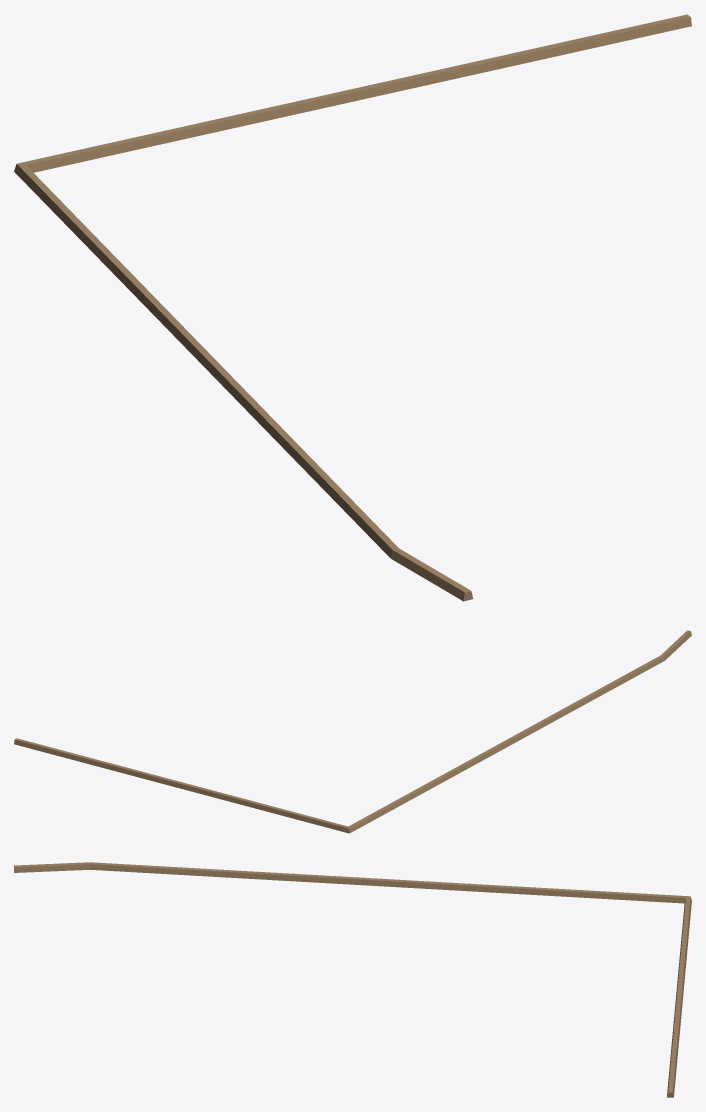
File: wall-11.glb
The picture shows the model from 3 angles, top to bottom: view 1: azimuth 30°, elevation 25°; view 2: azimuth 150°, elevation 25°; view 3: azimuth 270°, elevation 25°; orthographic projection. The views are drawn at different scales.
Parts seen in each view (by area): view 1: C_wall_B_11; view 2: C_wall_B_11; view 3: C_wall_B_11.
Part boxes in pixels (x1,y1,x2,y2): C_wall_B_11: [14, 14, 691, 601]; C_wall_B_11: [14, 630, 691, 833]; C_wall_B_11: [14, 862, 691, 1097].
Size of the model in its own units: 765 by 7.83 by 949.
